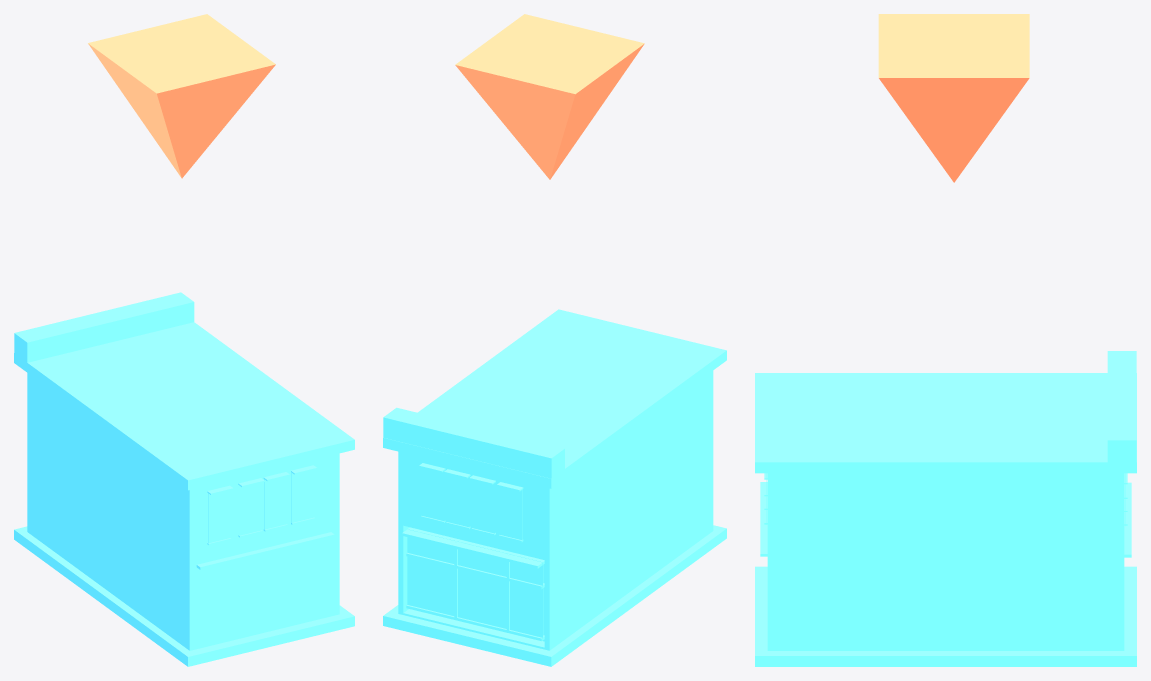
The model's file is 18c号楼.gltf.
The picture shows the model from 3 angles, left to right: view 1: azimuth 30°, elevation 25°; view 2: azimuth 150°, elevation 25°; view 3: azimuth 270°, elevation 25°; orthographic projection. The views are drawn at different scales.
Visible parts, largest first — view 1: subject, fire-mark; view 2: subject, fire-mark; view 3: subject, fire-mark.
Boxes of the visible parts, <box> form: subject: <box>14,292,354,666</box>; fire-mark: <box>88,14,275,178</box>; subject: <box>383,309,726,666</box>; fire-mark: <box>455,14,644,179</box>; subject: <box>755,351,1136,666</box>; fire-mark: <box>878,14,1029,182</box>.
Size of the model in its own units: 8.17 by 24.6 by 14.76.
